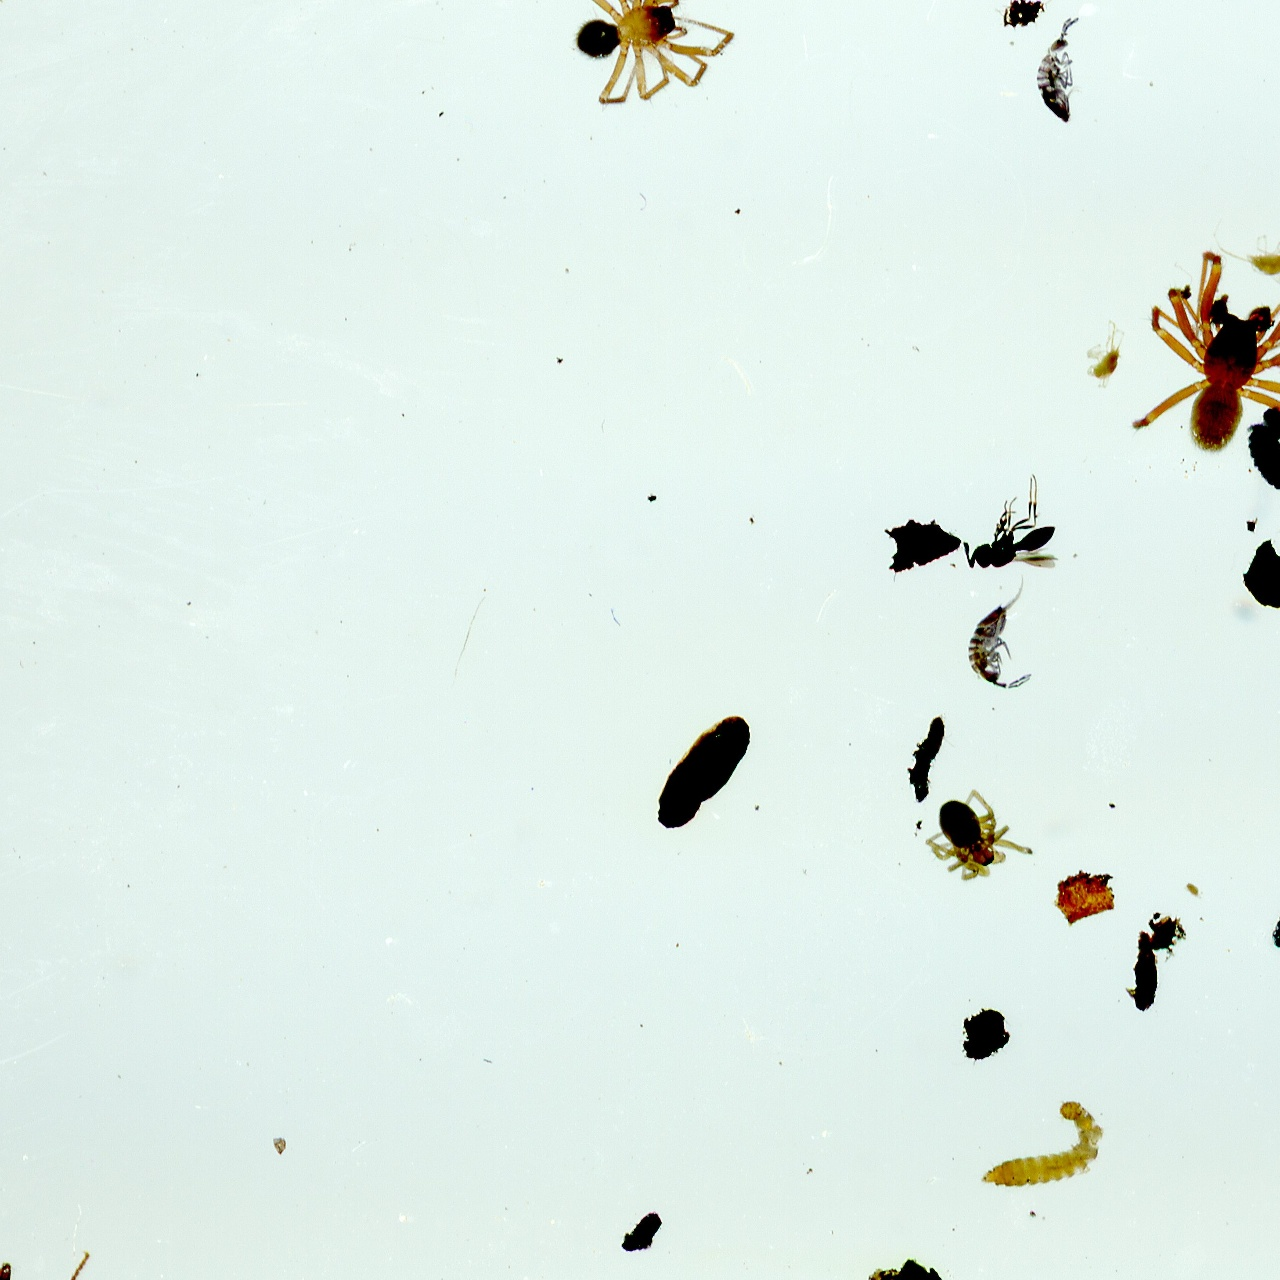arthropod: (1115, 236, 1280, 490), (557, 0, 743, 116), (911, 776, 1035, 900), (979, 1099, 1104, 1191), (964, 469, 1063, 571), (966, 574, 1034, 692), (1033, 15, 1085, 129), (1211, 212, 1280, 286), (1238, 414, 1280, 498), (1084, 316, 1126, 393), (1262, 506, 1280, 634), (1260, 871, 1280, 961)
